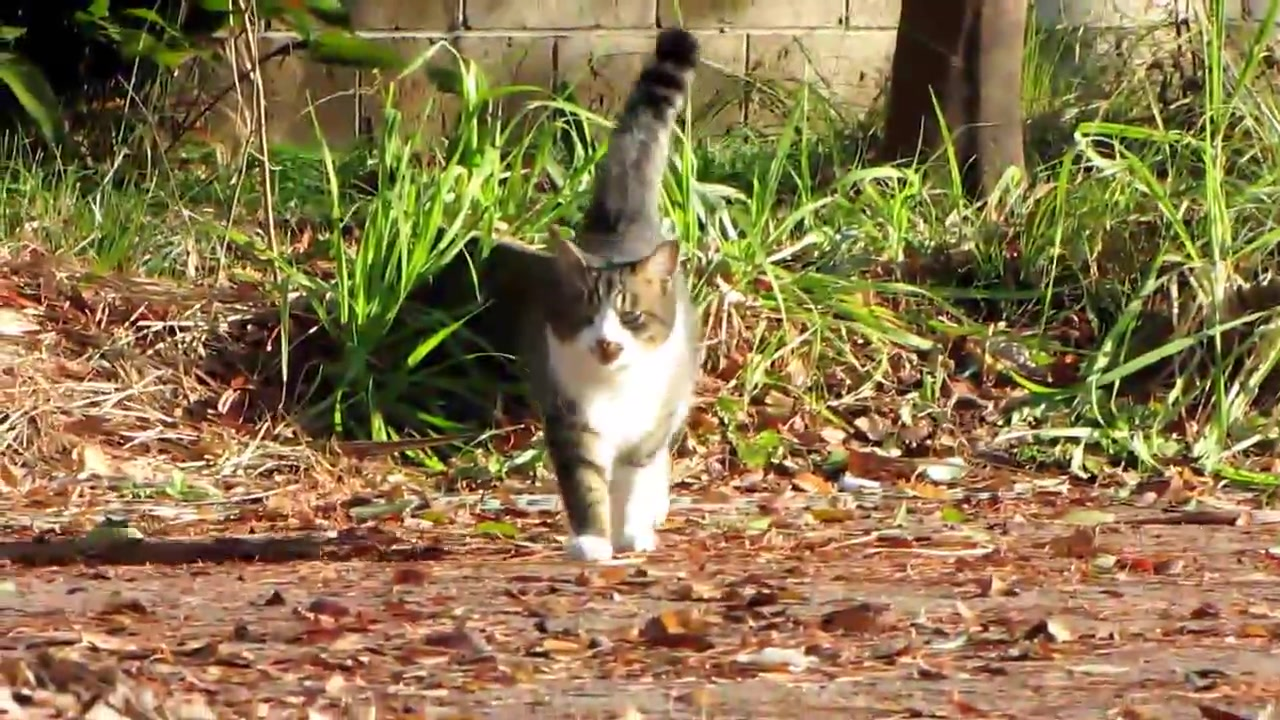cat: (533, 26, 703, 567)
